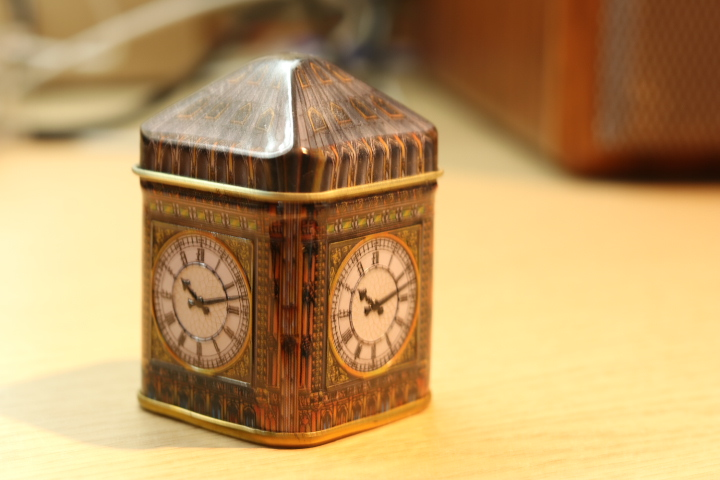Big Ben: (109, 39, 459, 456)
